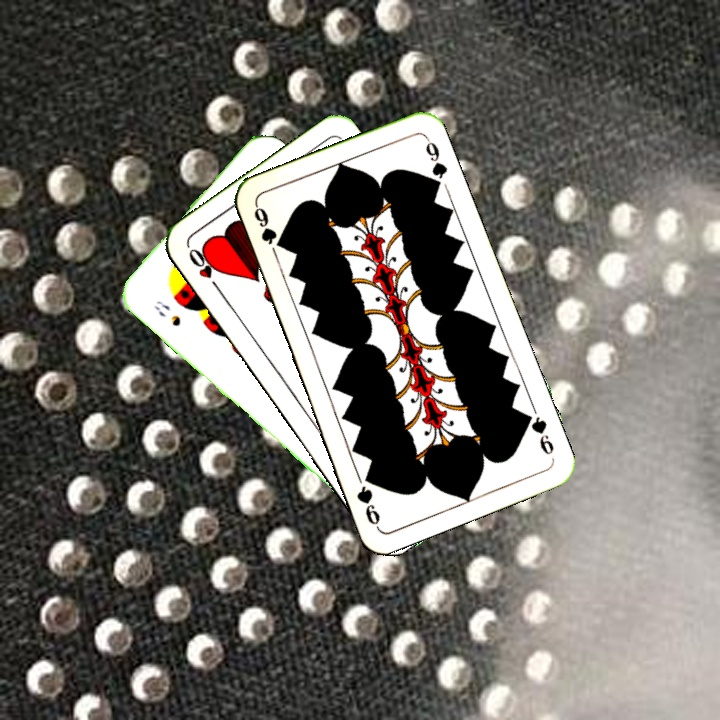G9: (519, 408, 557, 458), (250, 201, 280, 258)
HO: (184, 244, 224, 295)
S8: (149, 296, 184, 330)
